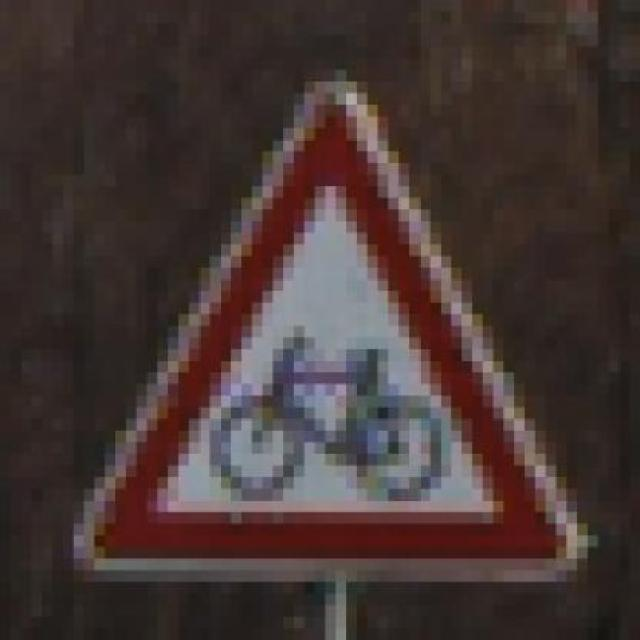CYCLE ROUTE AHEAD WARNING: (73, 46, 578, 594)
